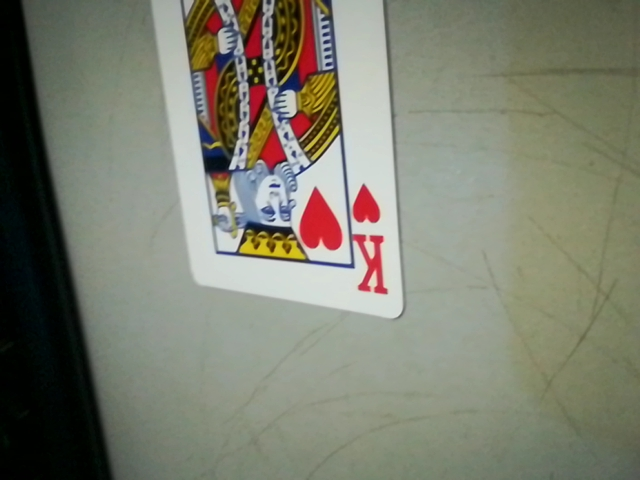hx k: (346, 184, 394, 304)
